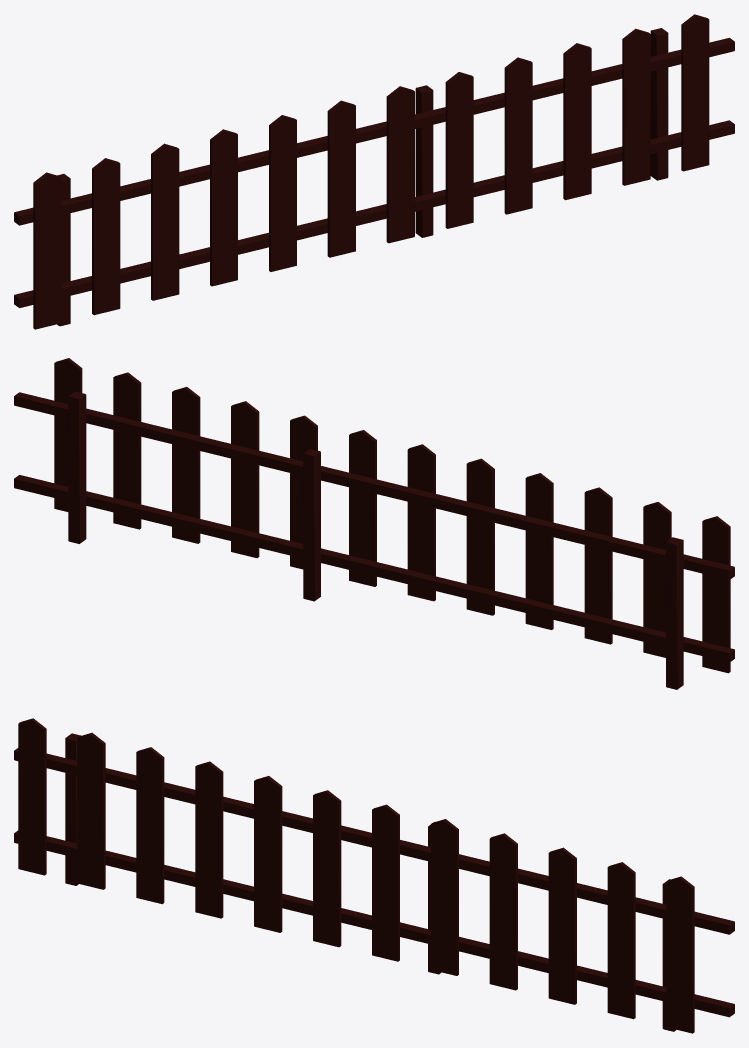
The model's file is fence.obj.
3 renders of one model, top to bottom at view 1: azimuth 30°, elevation 25°; view 2: azimuth 150°, elevation 25°; view 3: azimuth 330°, elevation 25°, orthographic.
Visible parts, largest first — view 1: fence_Куб.006; view 2: fence_Куб.006; view 3: fence_Куб.006.
Boxes of the visible parts, x1,y1,x2,y2 form: fence_Куб.006: (14, 14, 734, 329); fence_Куб.006: (14, 358, 734, 689); fence_Куб.006: (14, 718, 734, 1033).
Bounding box in the file's own units: 4.71 × 1.05 × 0.2034.
